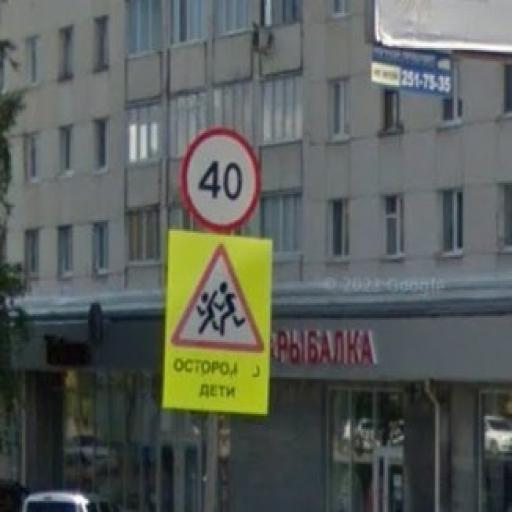traffic_sign: (172, 245, 268, 356), (180, 127, 263, 236)
